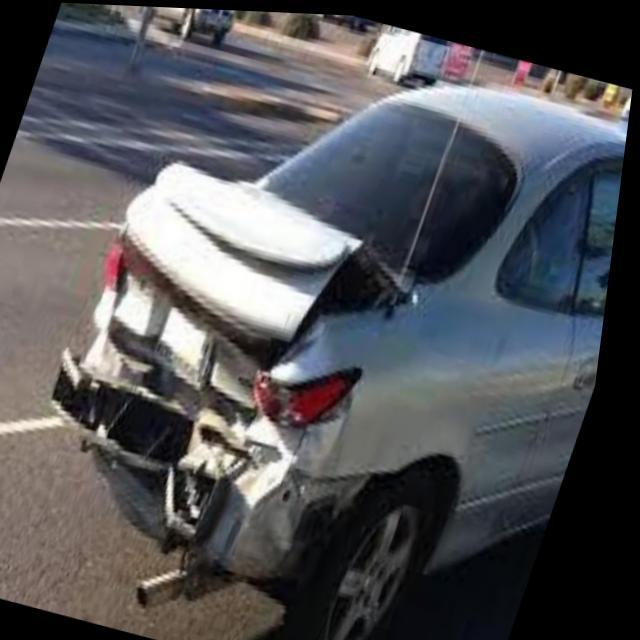dislocated part: (63, 150, 424, 591)
